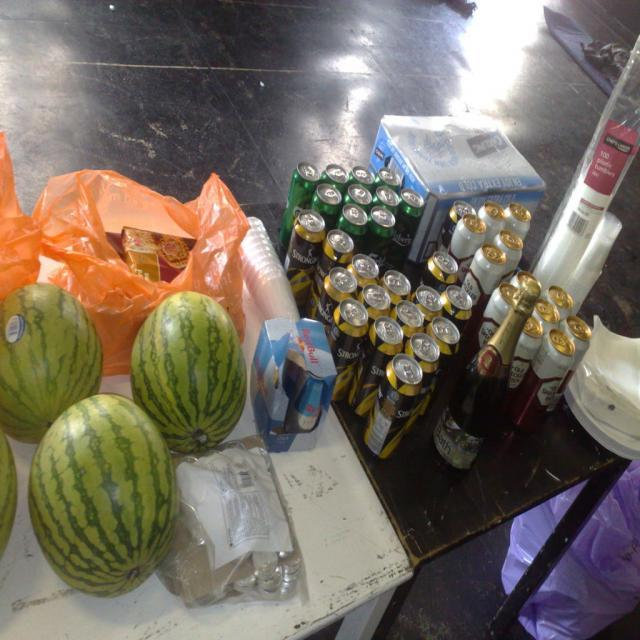Watermelon: (29, 390, 181, 600), (130, 290, 249, 454), (0, 282, 104, 443), (0, 428, 17, 562)
